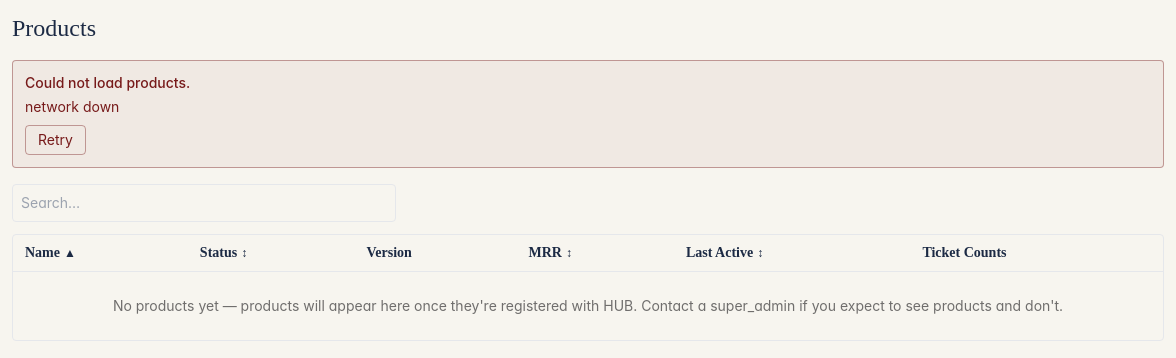
Test case: Products (HUB-1603) › AC#10 — error state with retry › error banner renders with retry button; retry refires the fetch
Expected: the message "Could not load products. network down Retry" is shown, [12,60,1164,168]
Expected: the message with test id "products-error-banner" shows "network down", [25,98,119,115]
Retry → second fetch succeeds and rows render.
Click the button "Retry" at (55, 140), box [25,125,86,155]
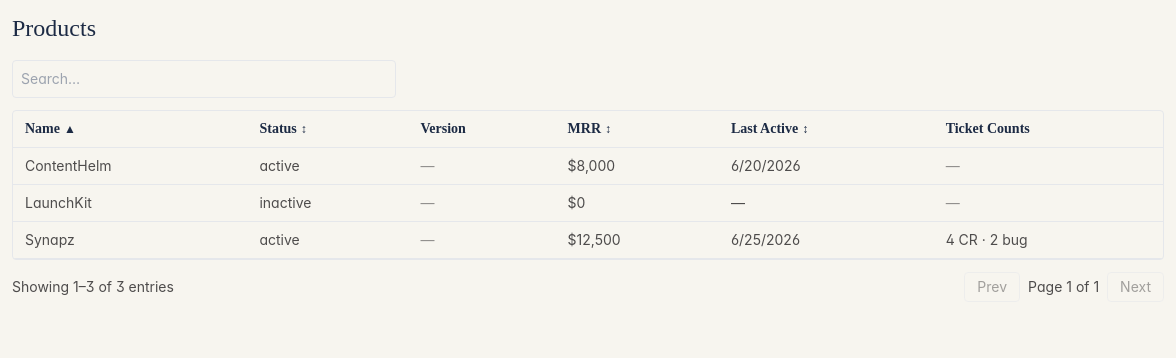
Expected: the text "Synapz" is shown, [13,222,247,258]
